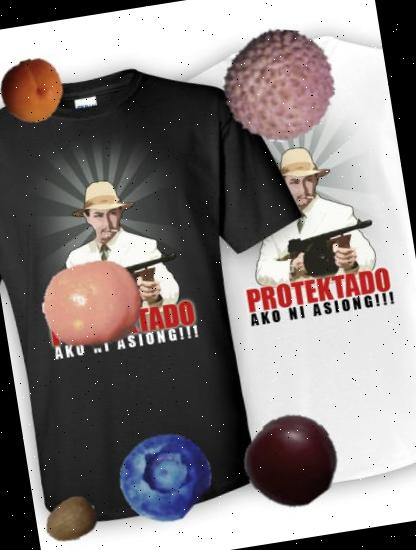Apricot: (0, 55, 68, 128)
Cherry: (240, 410, 345, 514)
Clementine: (35, 248, 150, 362)
Huckleberry: (112, 425, 216, 529)
Kiwi: (38, 488, 101, 550)
Lychee: (215, 22, 343, 150)
